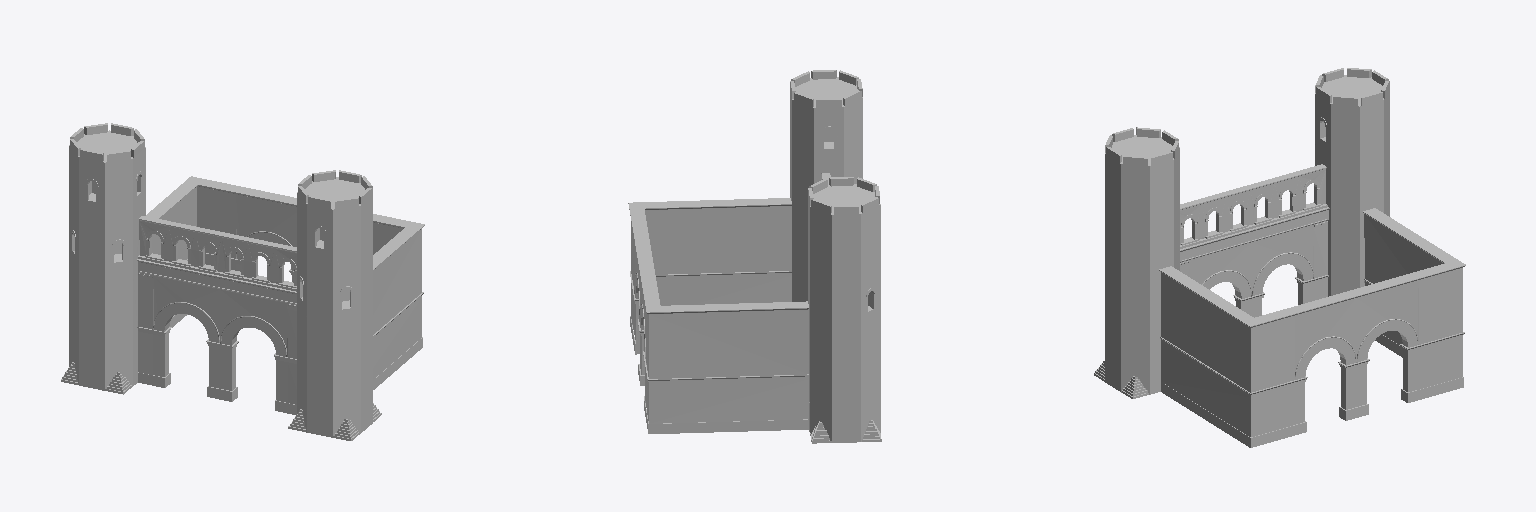
The model's file is Porta Urbica.obj.
The picture shows the model from 3 angles: view 1: azimuth 30°, elevation 25°; view 2: azimuth 150°, elevation 25°; view 3: azimuth 270°, elevation 25°; orthographic projection.
Parts seen in each view (by area): view 1: PU_Mattoni_Main, 0, PU_Archi_Piccoli, PU_gradoni; view 2: PU_Mattoni_Main, 0, PU_gradoni; view 3: PU_Mattoni_Main, 0, PU_Archi_Piccoli.
Part boxes in pixels (x1,y1,x2,y2): PU_Mattoni_Main: (69,123,421,437); 0: (137,176,424,414); PU_Archi_Piccoli: (71,171,353,356); PU_gradoni: (61,362,381,440); PU_Mattoni_Main: (631,70,880,442); 0: (628,173,830,433); PU_gradoni: (810,420,881,443); PU_Mattoni_Main: (1105,68,1462,436); 0: (1159,164,1465,447); PU_Archi_Piccoli: (1203,117,1417,379).
Bounding box in the file's own units: 125 × 90.83 × 130.